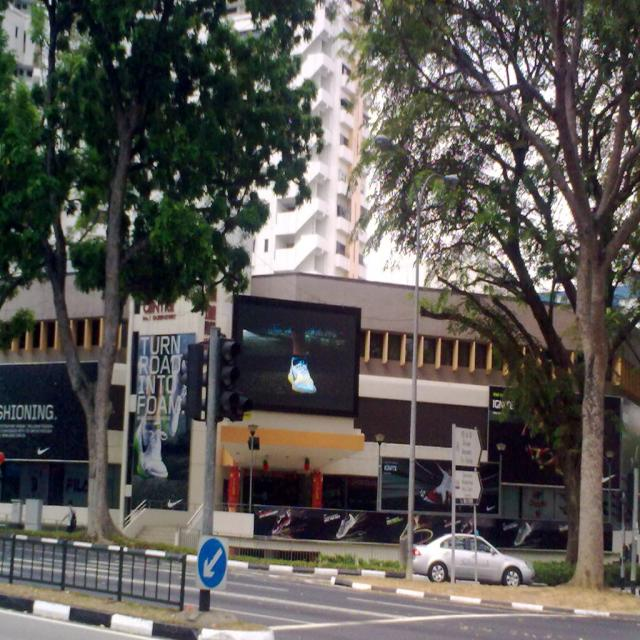car: (410, 516, 529, 593)
